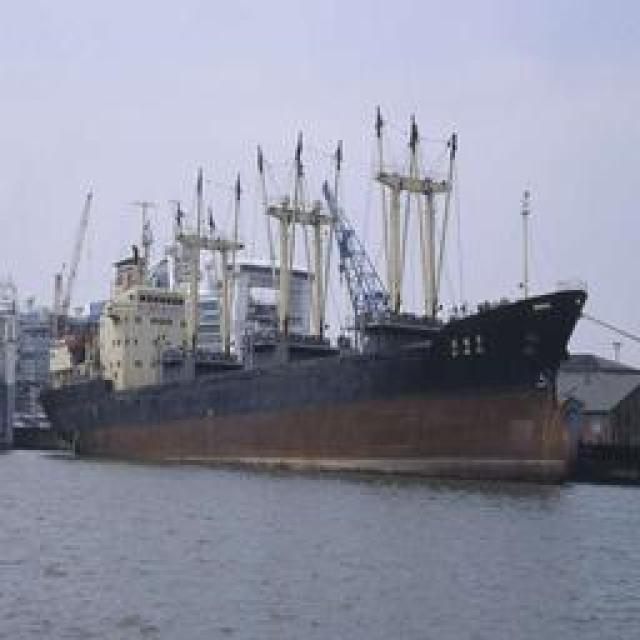ship2: (40, 108, 589, 482)
